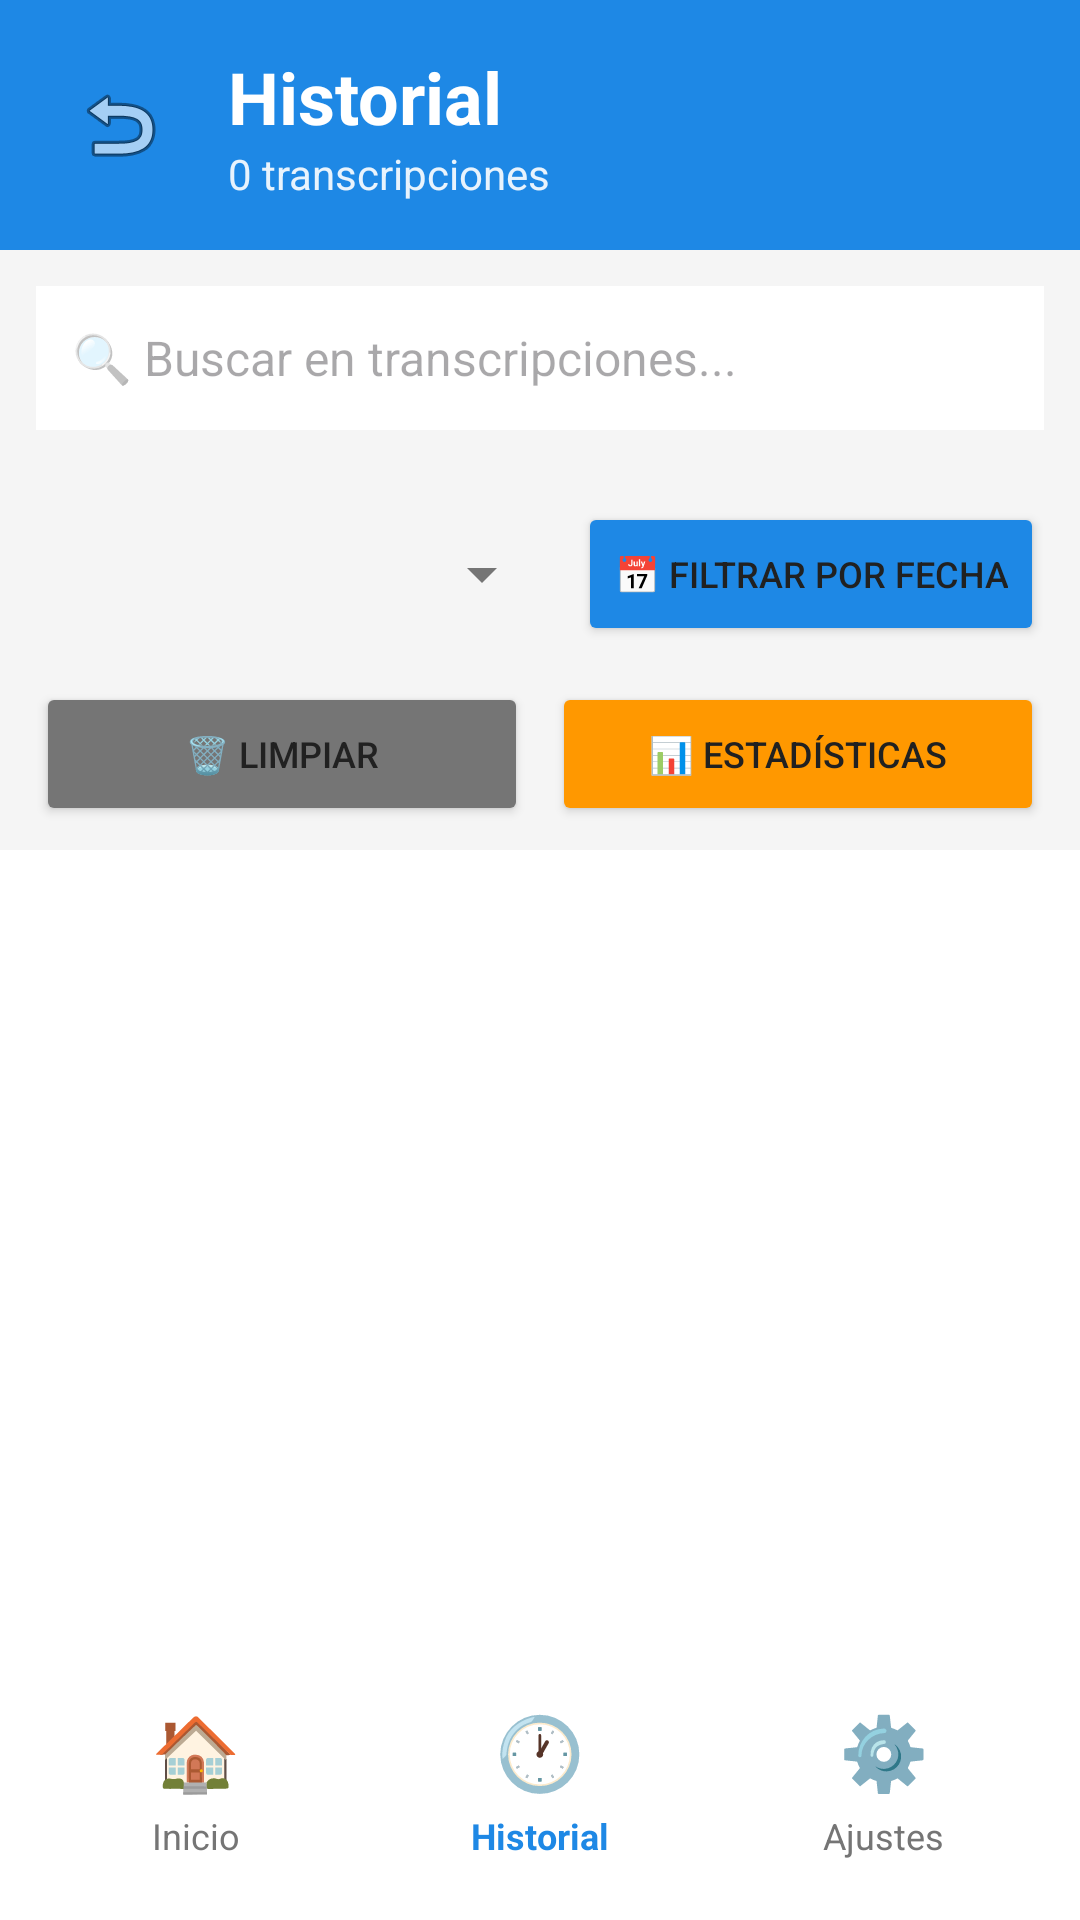

Point at icon controls on the screen. Image size 1080 x 1920, points as [x,y].
Volver: [121,125]
